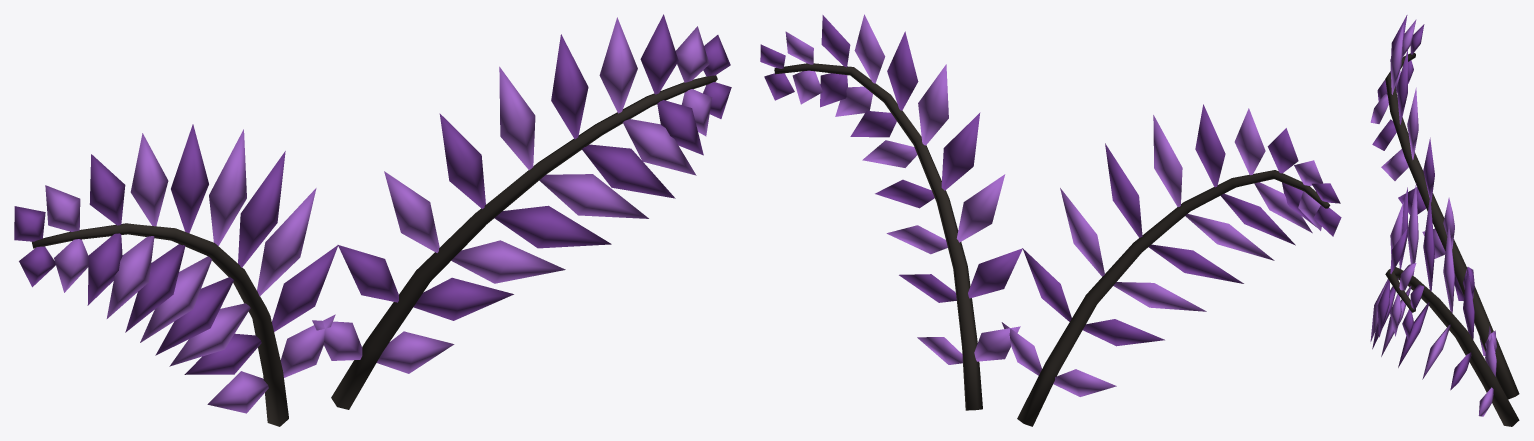
The model's file is moth-antennae.glb.
The picture shows the model from 3 angles, left to right: view 1: azimuth 30°, elevation 25°; view 2: azimuth 150°, elevation 25°; view 3: azimuth 270°, elevation 25°; orthographic projection. The views are drawn at different scales.
Parts seen in each view (by area): view 1: sway_feeler_l, sway_feeler_r; view 2: sway_feeler_r, sway_feeler_l; view 3: sway_feeler_l, sway_feeler_r.
Part boxes in pixels (x1,y1,x2,y2): sway_feeler_l: (312, 14, 731, 409); sway_feeler_r: (14, 124, 338, 426); sway_feeler_r: (1001, 104, 1341, 426); sway_feeler_l: (760, 14, 1022, 410); sway_feeler_l: (1370, 183, 1519, 426); sway_feeler_r: (1370, 15, 1519, 399).
Size of the model in its own units: 0.7883 by 0.4117 by 0.1853.
